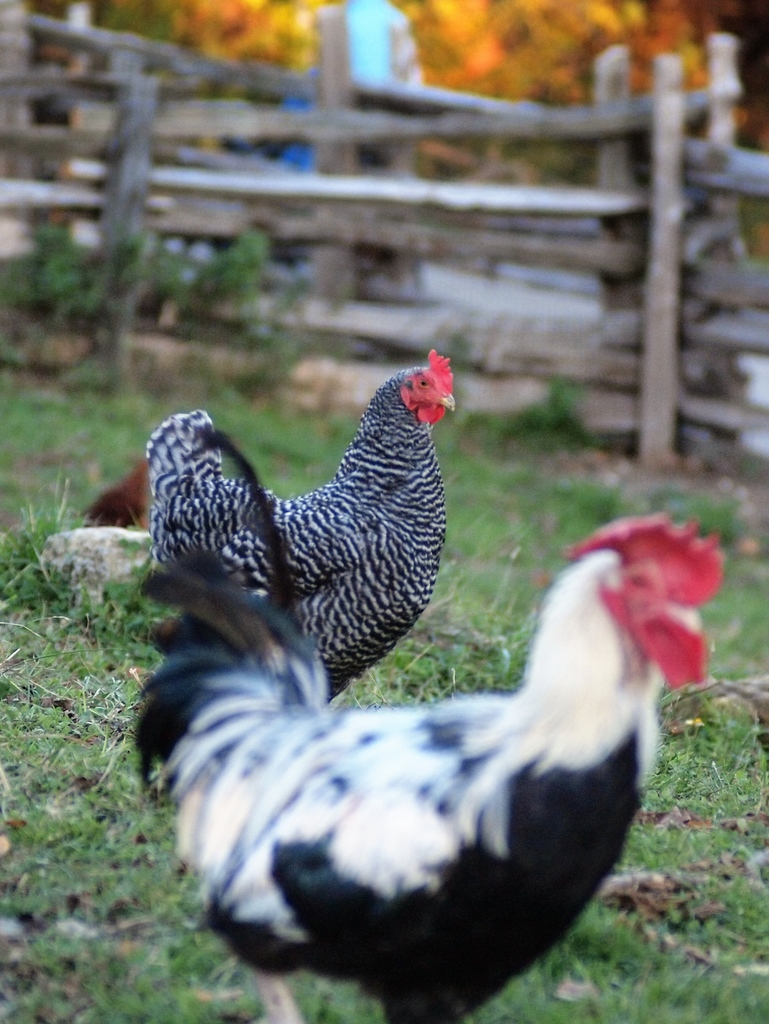chicken: (130, 508, 741, 1024), (133, 346, 461, 707)
